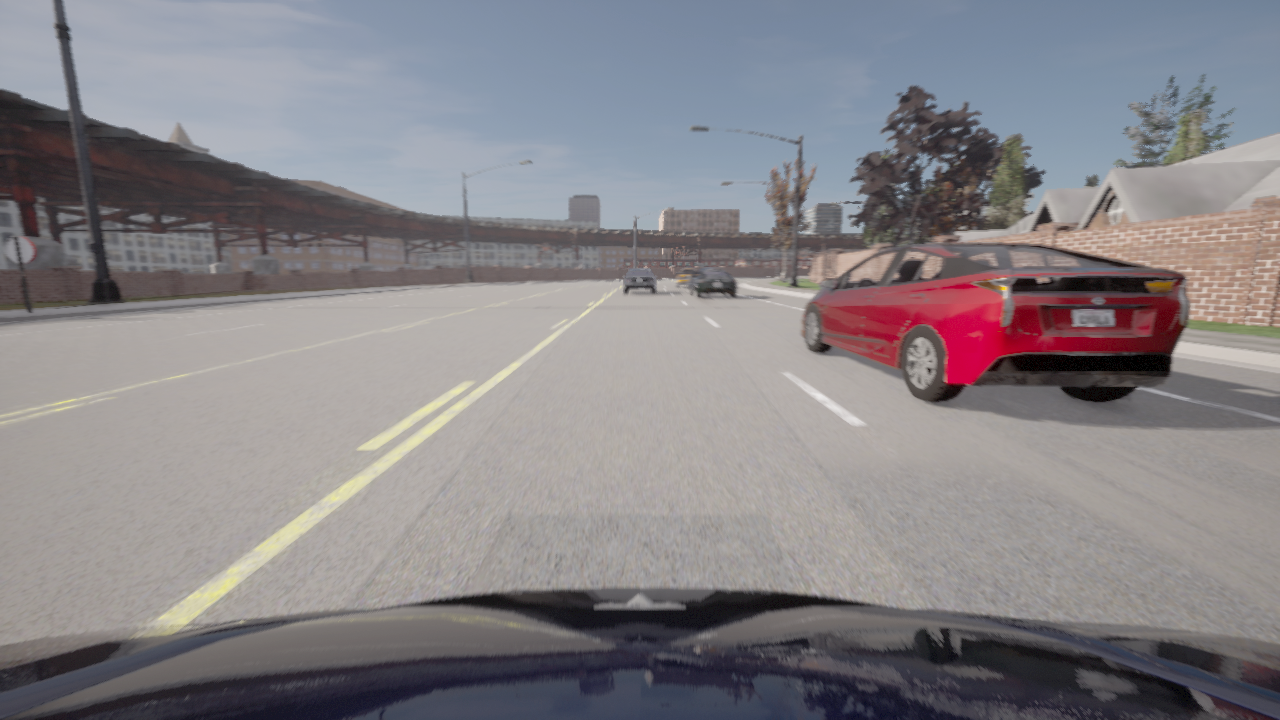cyclist: (0, 588, 1279, 719), (801, 243, 1189, 402), (688, 269, 737, 298), (624, 269, 656, 293), (676, 267, 697, 287)
